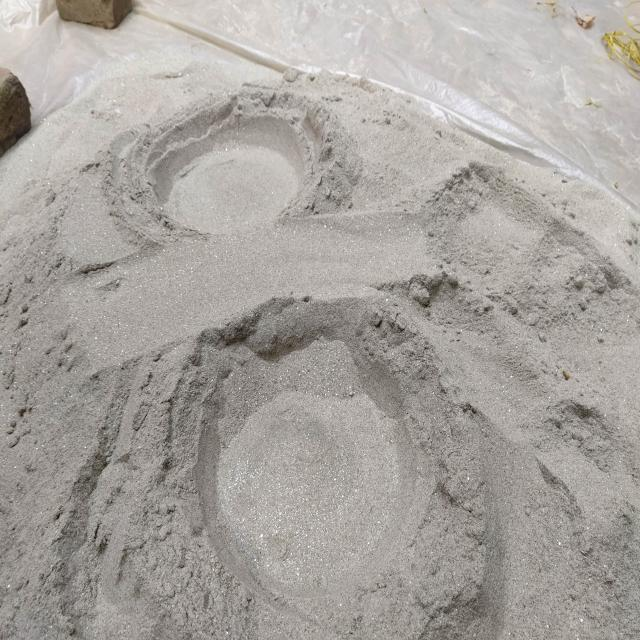C20: (196, 302, 435, 598), (145, 95, 334, 233)
